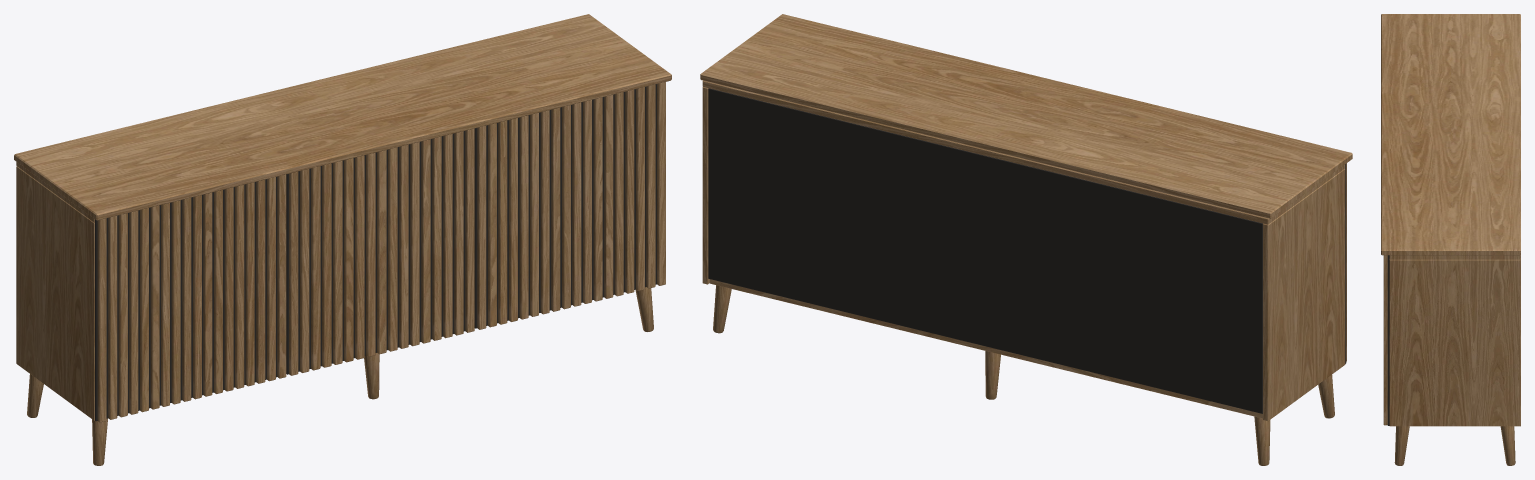
File: aparador_roble_180.glb
3 renders of one model, left to right at view 1: azimuth 30°, elevation 25°; view 2: azimuth 150°, elevation 25°; view 3: azimuth 270°, elevation 25°, orthographic. The views are drawn at different scales.
Visible parts, largest first — view 1: aparador_roble_180; view 2: aparador_roble_180; view 3: aparador_roble_180.
Boxes of the visible parts, x1,y1,x2,y2 form: aparador_roble_180: [14, 14, 671, 465]; aparador_roble_180: [700, 14, 1352, 465]; aparador_roble_180: [1381, 14, 1520, 465].
Bounding box in the file's own units: 1.8 × 0.7812 × 0.4501.
2 materials, 1 textured.
